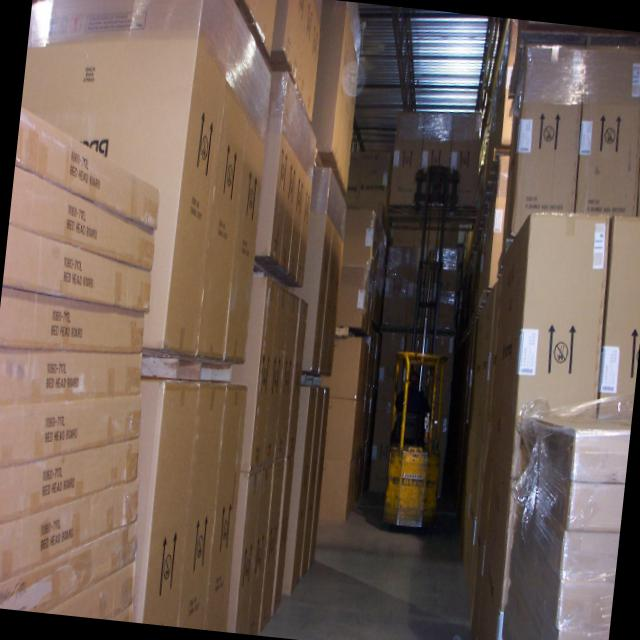boxs: (21, 0, 276, 630), (442, 18, 640, 640), (0, 105, 158, 616), (224, 0, 323, 633), (281, 0, 362, 593), (318, 148, 393, 519), (366, 211, 458, 497), (388, 106, 482, 216)
ceiling beam: (348, 3, 510, 152)
elevator: (380, 163, 458, 525)
floor -X: (254, 486, 469, 640)
